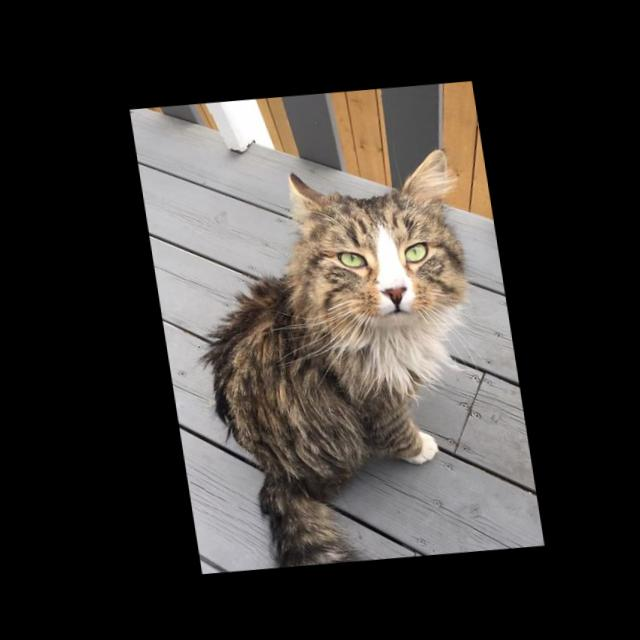animals: (174, 141, 502, 574)
